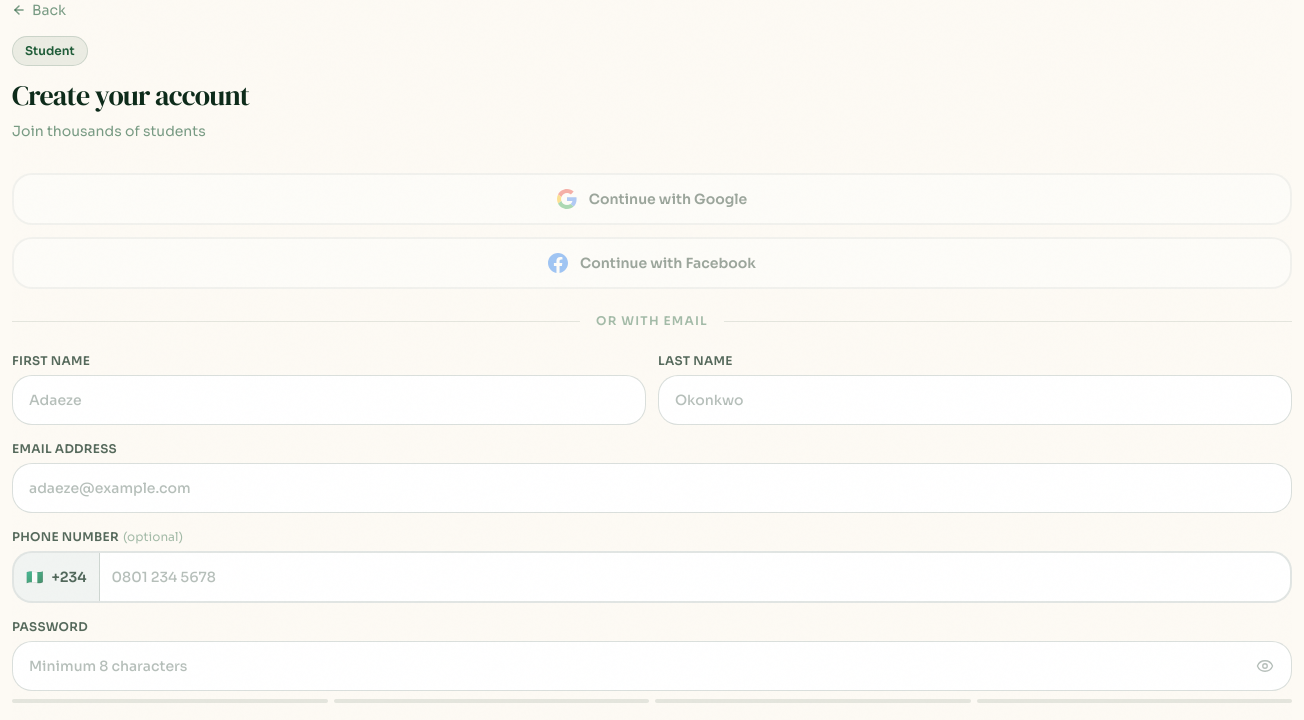
Test: Step2Details › Password Strength Indicator › shows Fair label for medium password
Type "abcdefgh" into the password field with placeholder "Minimum 8 characters" at [652, 666], box [12, 641, 1292, 691]
(page scrolled)
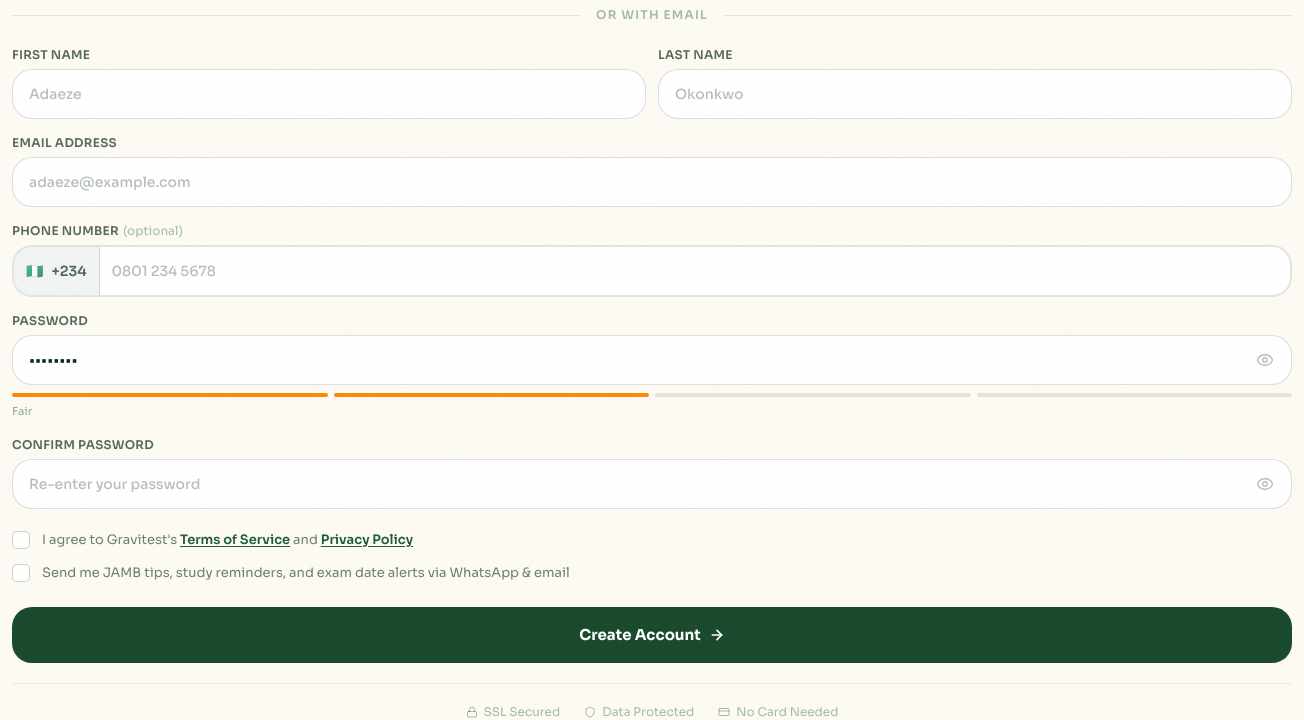
Now the text "Fair" is shown, box [12, 404, 32, 418]
